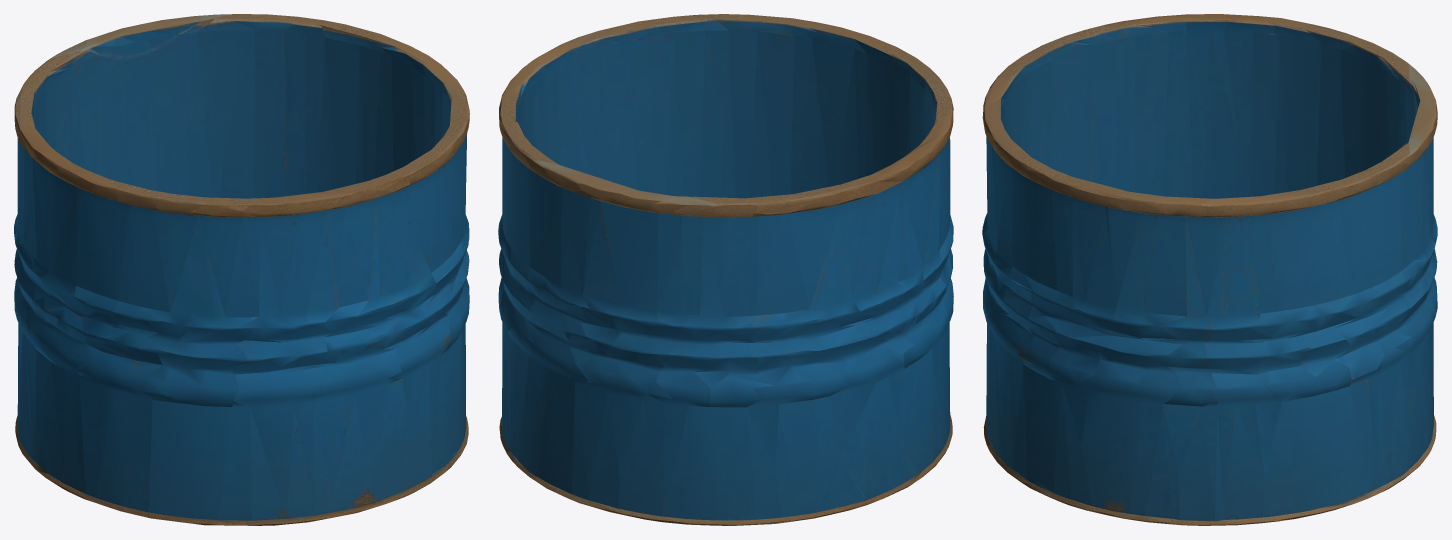
The model's file is barrel.glb.
3 views of the same model, side by side, from view 1: azimuth 30°, elevation 25°; view 2: azimuth 150°, elevation 25°; view 3: azimuth 270°, elevation 25° (orthographic).
Bounding box in the file's own units: 1.9 × 1.49 × 1.9.
Materials: 1 (1 with a texture image).
